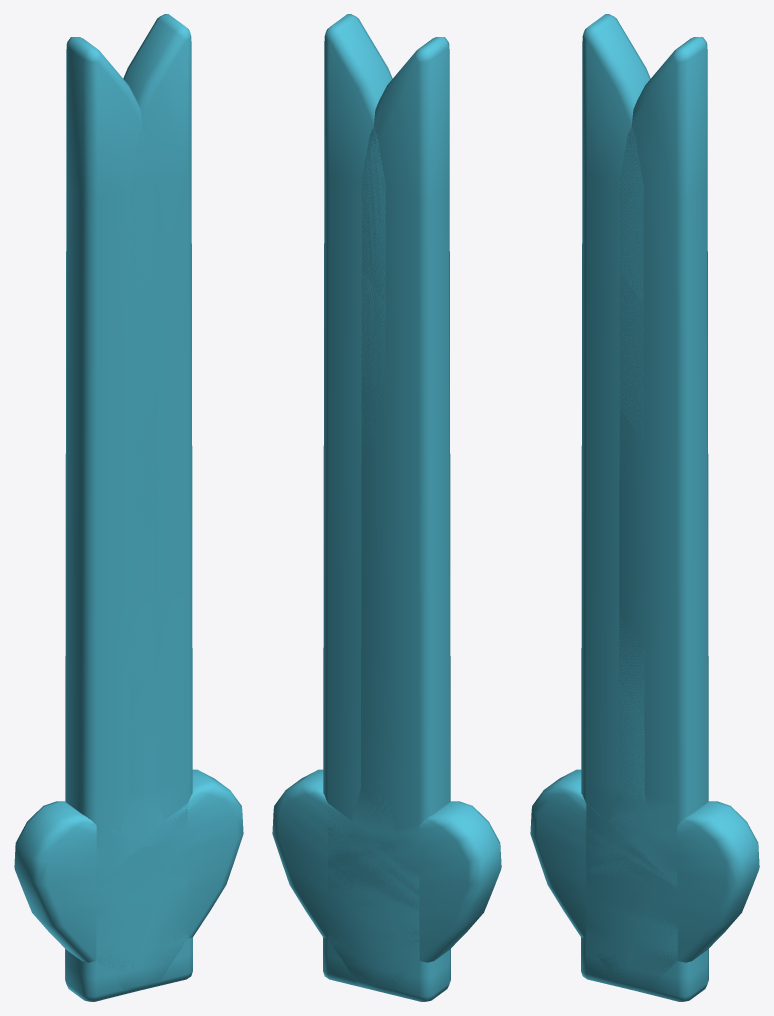
File: hearthDoor2Blue_GEO.fbx
The picture shows the model from 3 angles, left to right: view 1: azimuth 30°, elevation 25°; view 2: azimuth 150°, elevation 25°; view 3: azimuth 330°, elevation 25°; orthographic projection.
Parts seen in each view (by area): view 1: Heartdoor2_Blue_GEO, Heartdoor2_Blue_GEO.001; view 2: Heartdoor2_Blue_GEO, Heartdoor2_Blue_GEO.001; view 3: Heartdoor2_Blue_GEO.001, Heartdoor2_Blue_GEO.
Part boxes in pixels (bbox=[...]): Heartdoor2_Blue_GEO: bbox=[65, 37, 243, 1001]; Heartdoor2_Blue_GEO.001: bbox=[14, 14, 192, 990]; Heartdoor2_Blue_GEO: bbox=[272, 37, 450, 1001]; Heartdoor2_Blue_GEO.001: bbox=[323, 14, 501, 994]; Heartdoor2_Blue_GEO.001: bbox=[530, 37, 708, 1001]; Heartdoor2_Blue_GEO: bbox=[581, 14, 759, 990].
Size of the model in its own units: 4.86 by 20.84 by 1.05.
